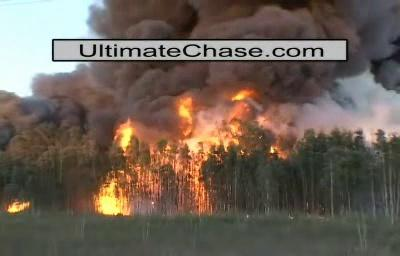fire: (178, 148, 215, 210), (113, 127, 138, 214)
smoke: (101, 3, 398, 100)
